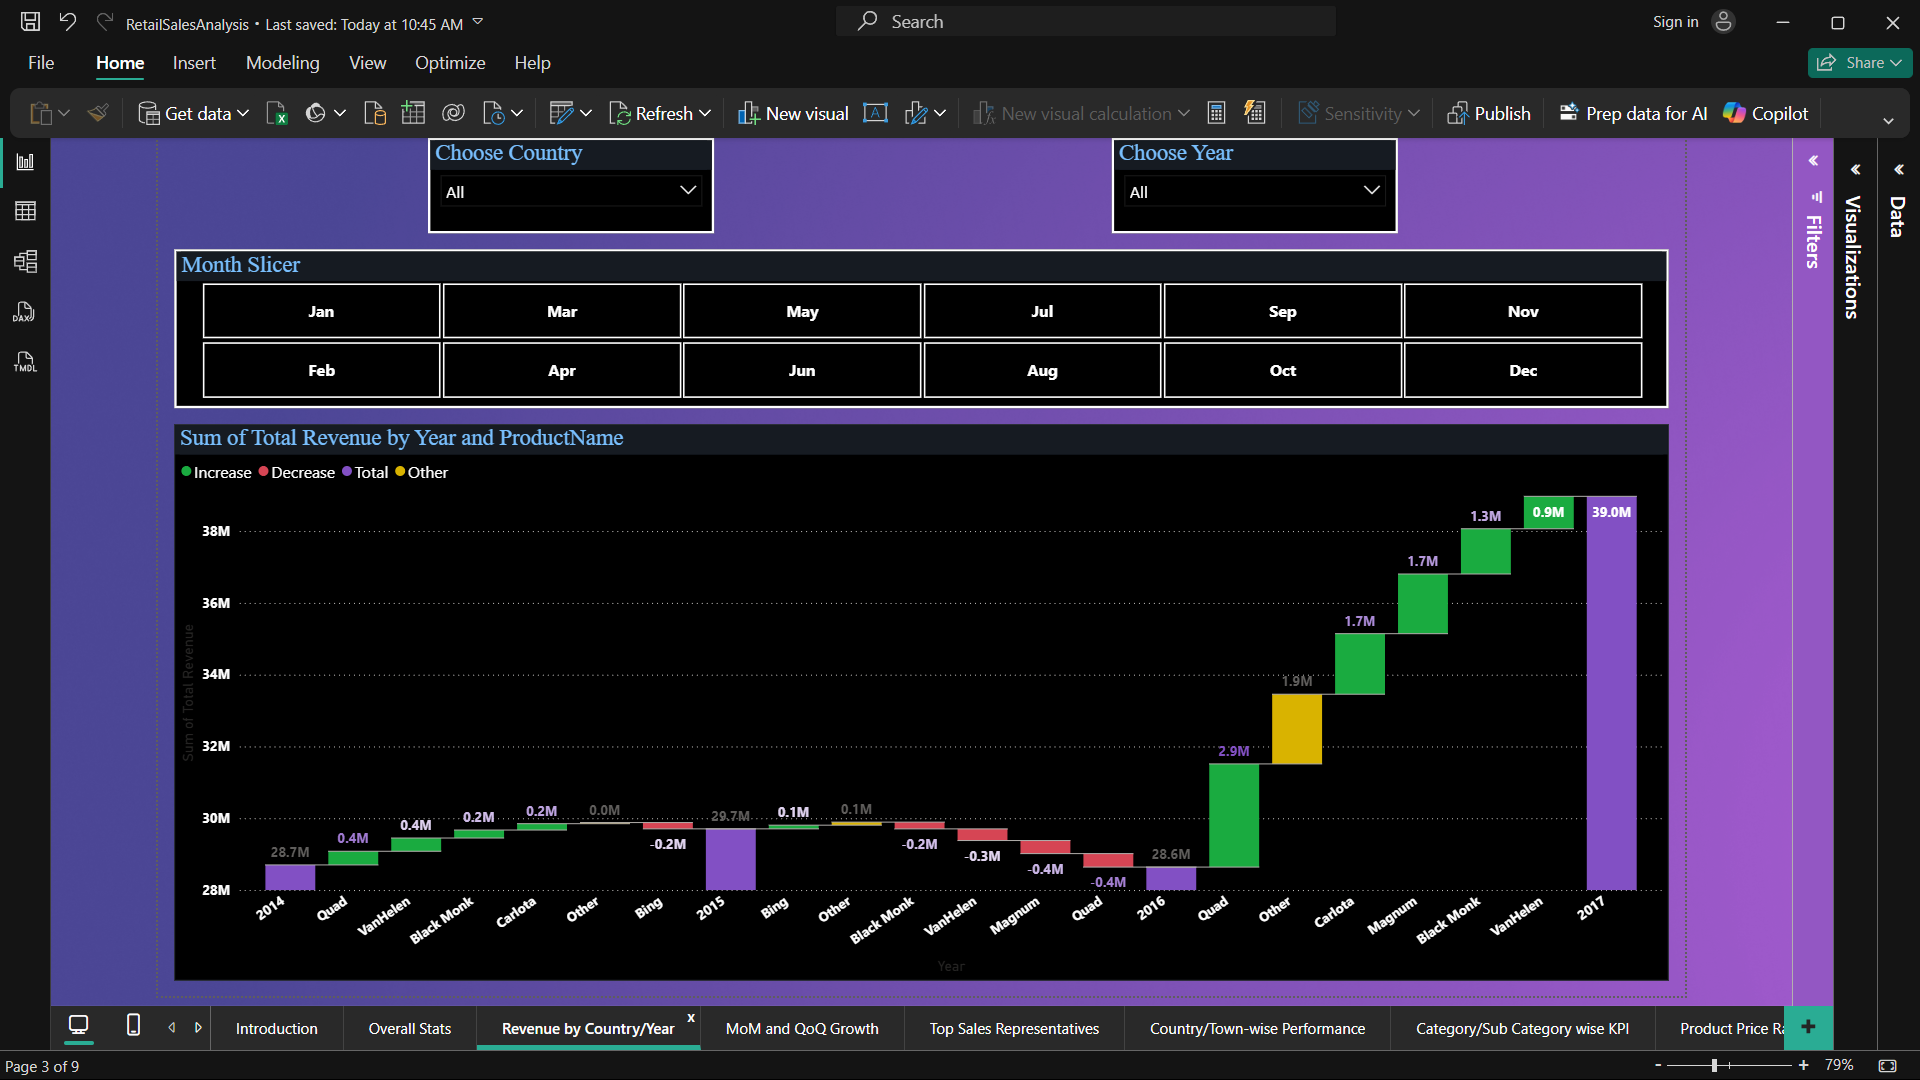

This screenshot's page, from the dashboard's own definition file:
{"tool":"powerbi","page":{"name":"Revenue by Country/Year","canvas":[1536,864],"ordinal":2},"visuals":[{"type":"slicer","title":"Month Slicer","fields":{"Values":["CalendarMaster.MonthName"]},"box":[16,112,1504,160],"z":0},{"type":"slicer","title":"Choose Country","fields":{"Values":["DimGeography.Country"]},"box":[272,0,288,96],"z":1000},{"type":"slicer","title":"Choose Year","fields":{"Values":["CalendarMaster.Year"]},"box":[960,0,288,96],"z":2000},{"type":"waterfallChart","fields":{"Category":["CalendarMaster.Year"],"Y":["Sum(FactSales.Total Revenue)"],"Breakdown":["DimProducts.ProductName"]},"box":[16,288,1504,560],"z":3000}]}

Visuals, with their boxes on the page's 1536x864 design canvas (x1, y1, x2, y2). These are canvas units, not pixel positions in the 1920x1080 screenshot, which may show the page scaled, cropped or inside an application window:
"Month Slicer" slicer: left=16, top=112, right=1520, bottom=272
"Choose Country" slicer: left=272, top=0, right=560, bottom=96
"Choose Year" slicer: left=960, top=0, right=1248, bottom=96
waterfallChart - CalendarMaster.Year x Sum(FactSales.Total Revenue): left=16, top=288, right=1520, bottom=848
